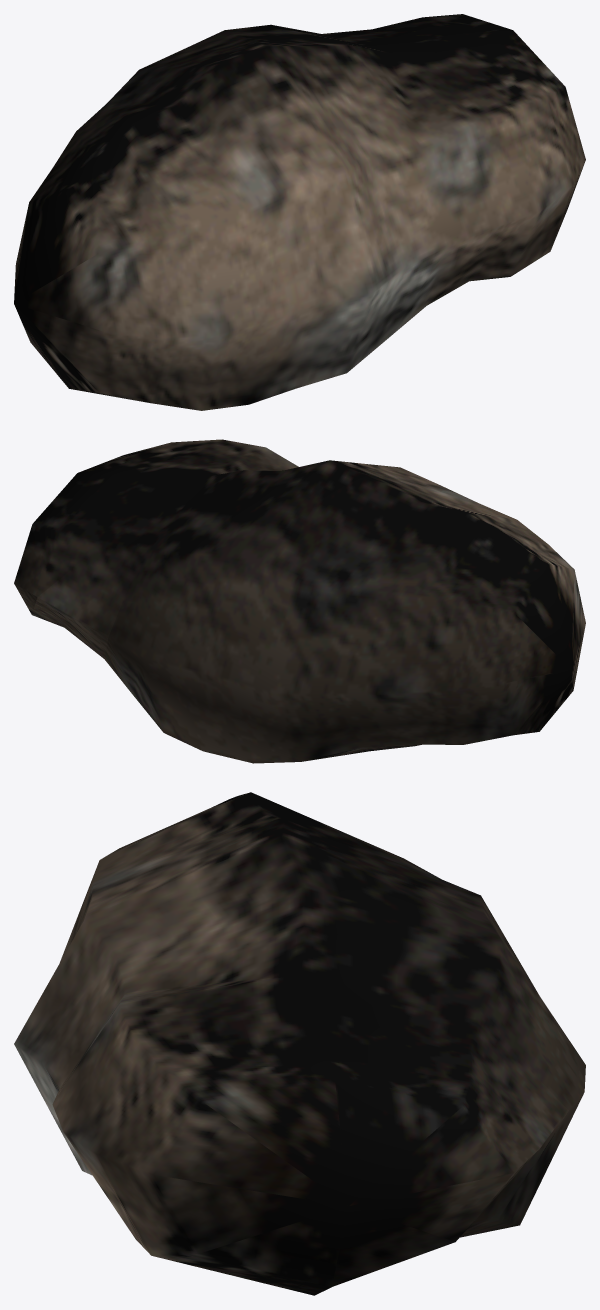
The model's file is bgrnd03_static.obj.
3 views of the same model, one above another, from view 1: azimuth 30°, elevation 25°; view 2: azimuth 150°, elevation 25°; view 3: azimuth 270°, elevation 25° (orthographic). The views are drawn at different scales.
Parts seen in each view (by area): view 1: frm-skin2; view 2: frm-skin2; view 3: frm-skin2.
Part boxes in pixels (bbox=[...]): frm-skin2: bbox=[14, 14, 585, 410]; frm-skin2: bbox=[14, 439, 585, 763]; frm-skin2: bbox=[14, 792, 585, 1295].
Size of the model in its own units: 12.44 by 6.79 by 8.55.
